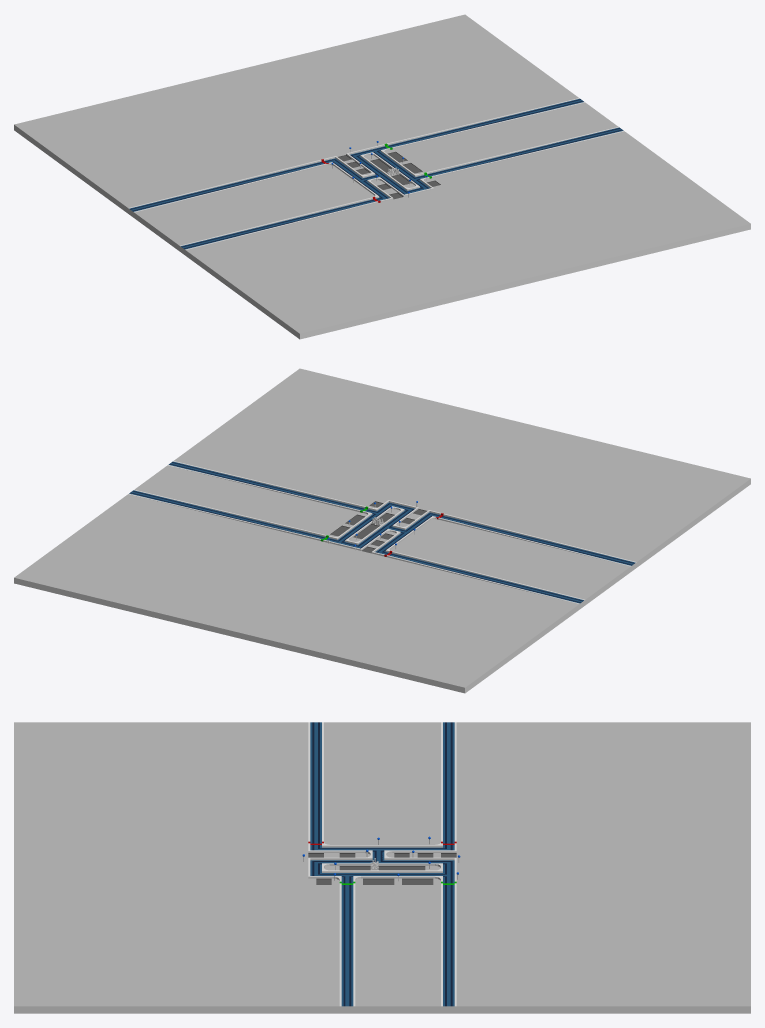
File: Stage8.fbx
3 views of the same model, one above another, from view 1: azimuth 30°, elevation 25°; view 2: azimuth 150°, elevation 25°; view 3: azimuth 270°, elevation 25° (orthographic). The views are drawn at different scales.
Parts seen in each view (by area): view 1: Cube; view 2: Cube; view 3: Cube.
Boxes of the visible parts, x1,y1,x2,y2 form: Cube: (14, 14, 750, 339); Cube: (14, 368, 750, 693); Cube: (14, 722, 750, 1013).
Size of the model in its own units: 16400 by 420 by 18000.
